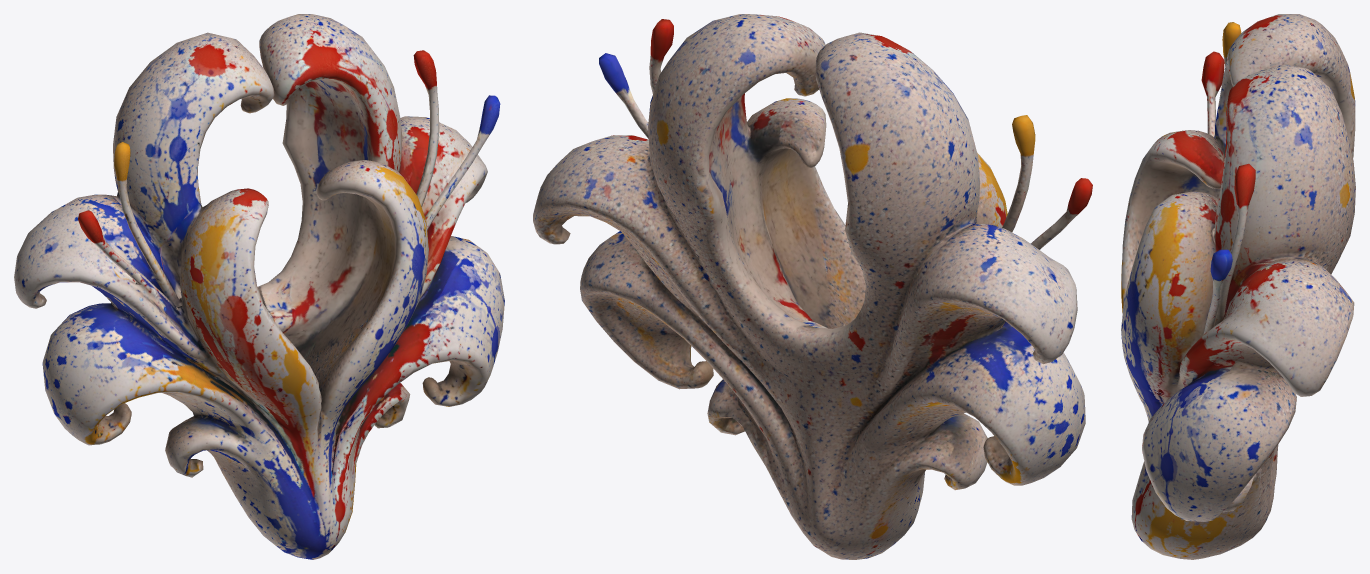
Rendered from tripo_convert_8adfb6a8-a9f4-42d6-8672-a1cd6733e53f.fbx.
3 renders of one model, left to right at view 1: azimuth 30°, elevation 25°; view 2: azimuth 150°, elevation 25°; view 3: azimuth 270°, elevation 25°, orthographic. The views are drawn at different scales.
Visible parts, largest first — view 1: tripo_node_8adfb6a8; view 2: tripo_node_8adfb6a8; view 3: tripo_node_8adfb6a8.
Part boxes in pixels (bbox=[...]): tripo_node_8adfb6a8: bbox=[14, 14, 504, 559]; tripo_node_8adfb6a8: bbox=[533, 14, 1092, 559]; tripo_node_8adfb6a8: bbox=[1121, 14, 1355, 559].
Bounding box in the file's own units: 0.9562 × 0.9771 × 0.4054.
1 material, 1 textured.
